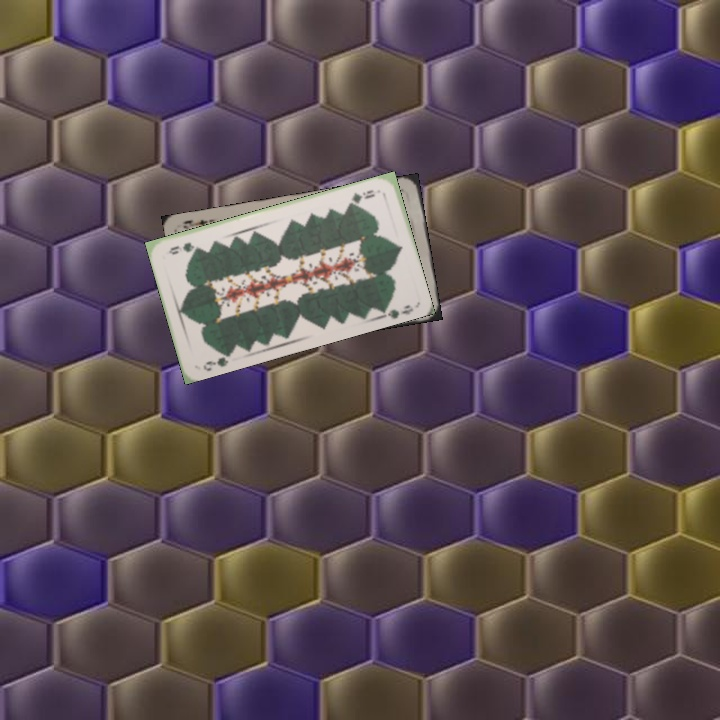G9: (199, 349, 234, 374), (345, 186, 377, 207)
